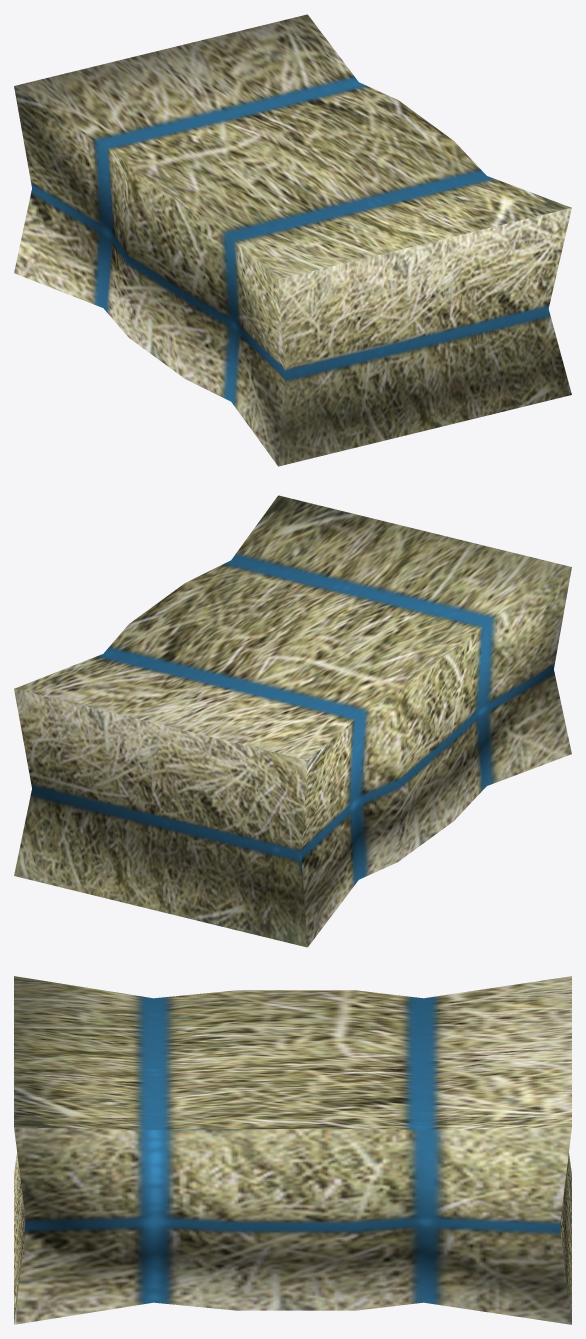
Rendered from HeyBall00.fbx.
The picture shows the model from 3 angles, top to bottom: view 1: azimuth 30°, elevation 25°; view 2: azimuth 150°, elevation 25°; view 3: azimuth 270°, elevation 25°; orthographic projection. The views are drawn at different scales.
Parts seen in each view (by area): view 1: pCube1; view 2: pCube1; view 3: pCube1.
Part boxes in pixels (bbox=[...]): pCube1: bbox=[14, 14, 571, 466]; pCube1: bbox=[14, 495, 571, 947]; pCube1: bbox=[14, 976, 571, 1324].
Size of the model in its own units: 3.35 by 2.04 by 5.22.
